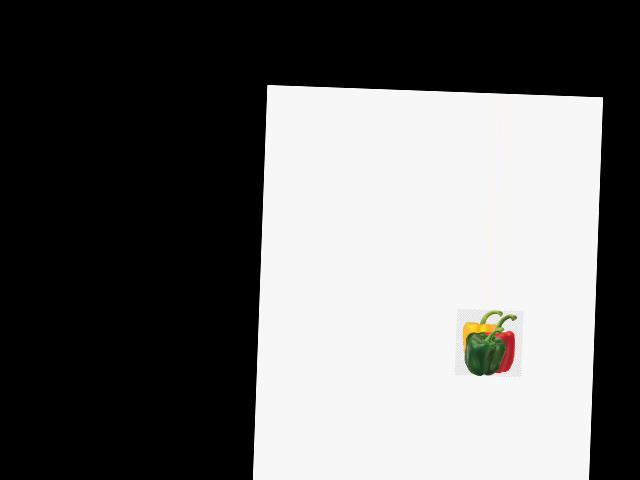bell_pepper: (483, 312, 523, 375)
